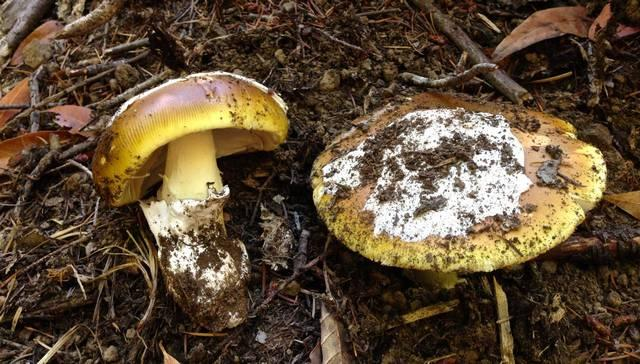edible_mushroom: (309, 90, 607, 362), (90, 69, 289, 332)
